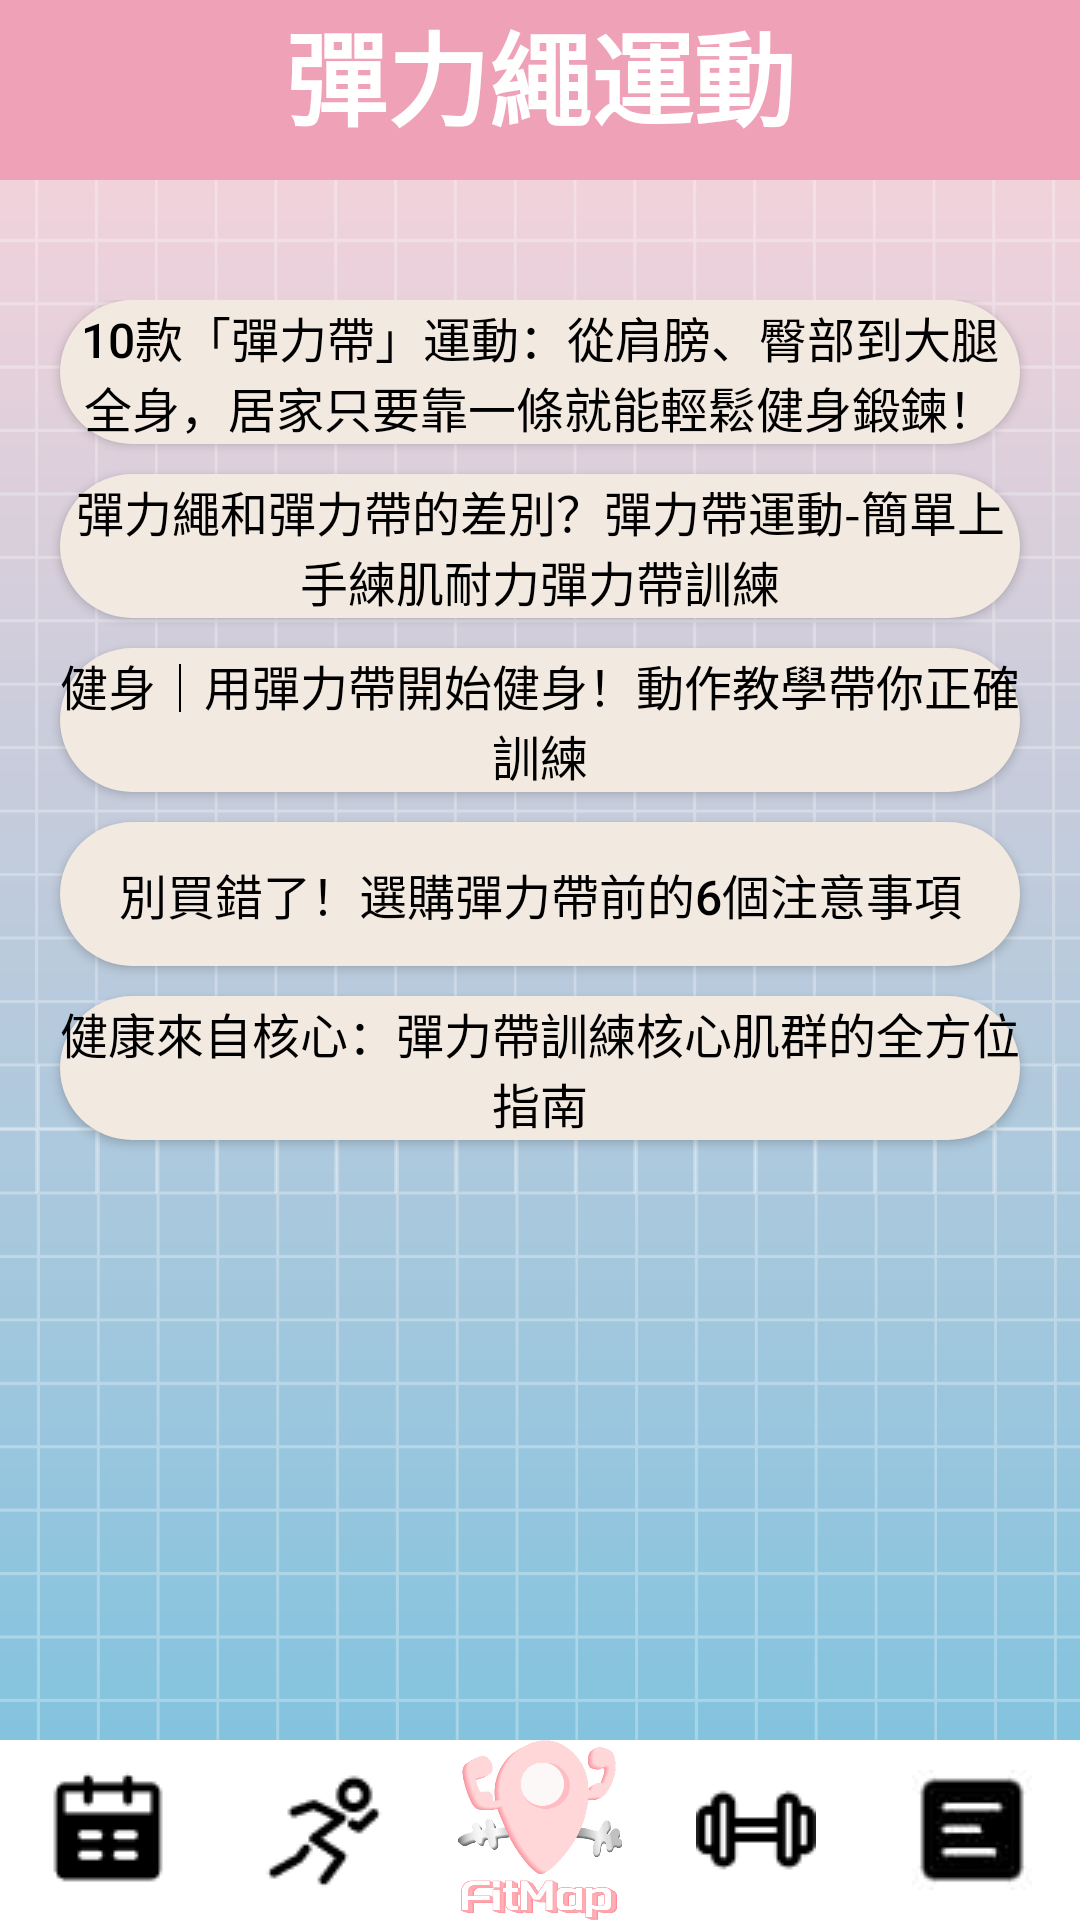

Screen size 1080 x 1920. Icon name, then its box in pixels as (x1, y1, x2, y2):
article: (920, 1778, 1024, 1882)
reservation: (53, 1774, 163, 1882)
run: (268, 1775, 380, 1885)
